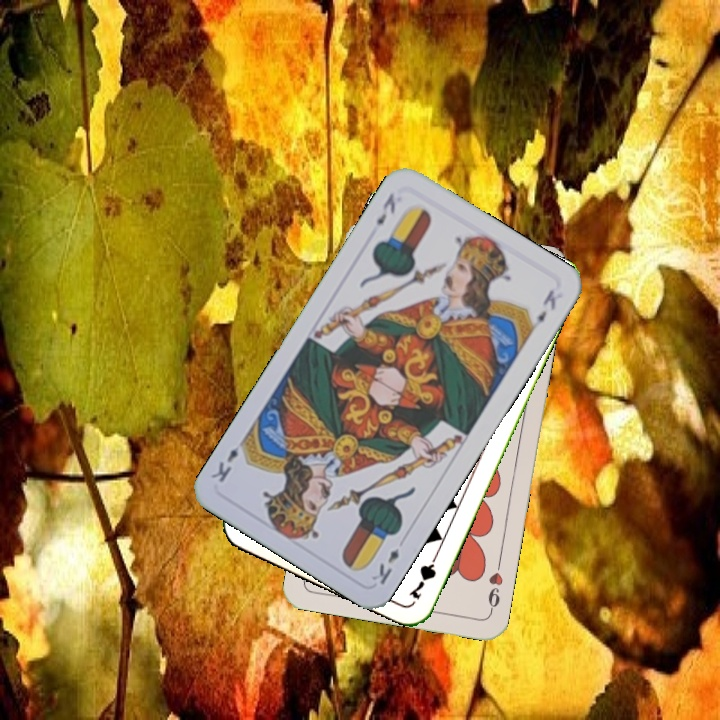EK: (367, 544, 402, 587), (372, 189, 398, 228)
G7: (405, 547, 442, 602)
H9: (483, 557, 506, 615)
